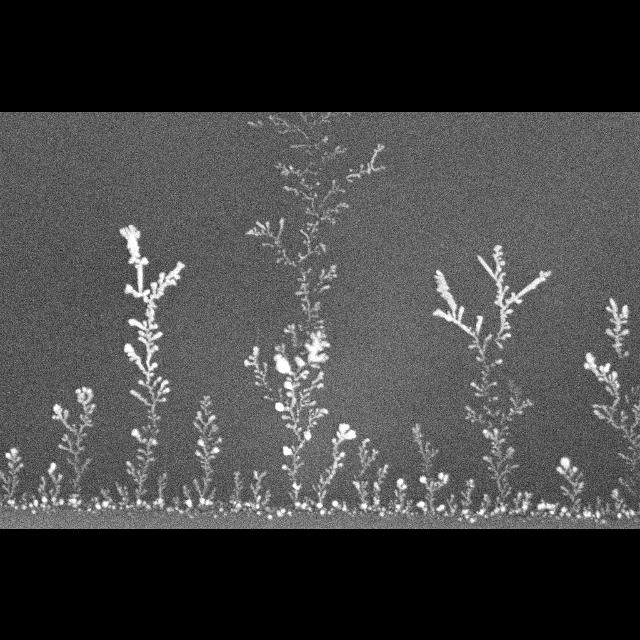dendrites: (243, 111, 355, 508), (434, 244, 551, 512), (119, 224, 184, 503), (583, 351, 640, 500), (52, 386, 96, 504), (412, 422, 449, 513), (192, 394, 222, 505), (353, 437, 379, 511), (556, 456, 585, 517), (605, 297, 629, 358), (0, 447, 24, 506), (38, 462, 62, 503), (610, 487, 636, 518), (250, 469, 270, 508), (373, 463, 388, 507), (461, 478, 476, 514), (230, 470, 243, 509), (154, 471, 168, 506), (393, 477, 407, 510), (595, 495, 616, 517), (513, 491, 532, 513), (115, 480, 130, 505), (537, 499, 560, 513), (478, 492, 492, 513), (284, 323, 297, 345), (182, 484, 193, 507), (446, 493, 458, 514), (100, 488, 112, 506), (402, 498, 415, 513), (18, 492, 28, 508), (582, 504, 595, 516), (275, 507, 291, 516), (559, 505, 572, 516), (172, 496, 180, 508), (341, 500, 348, 511), (29, 499, 38, 507), (332, 499, 338, 506), (319, 508, 326, 514), (379, 510, 384, 516), (267, 514, 272, 518)
